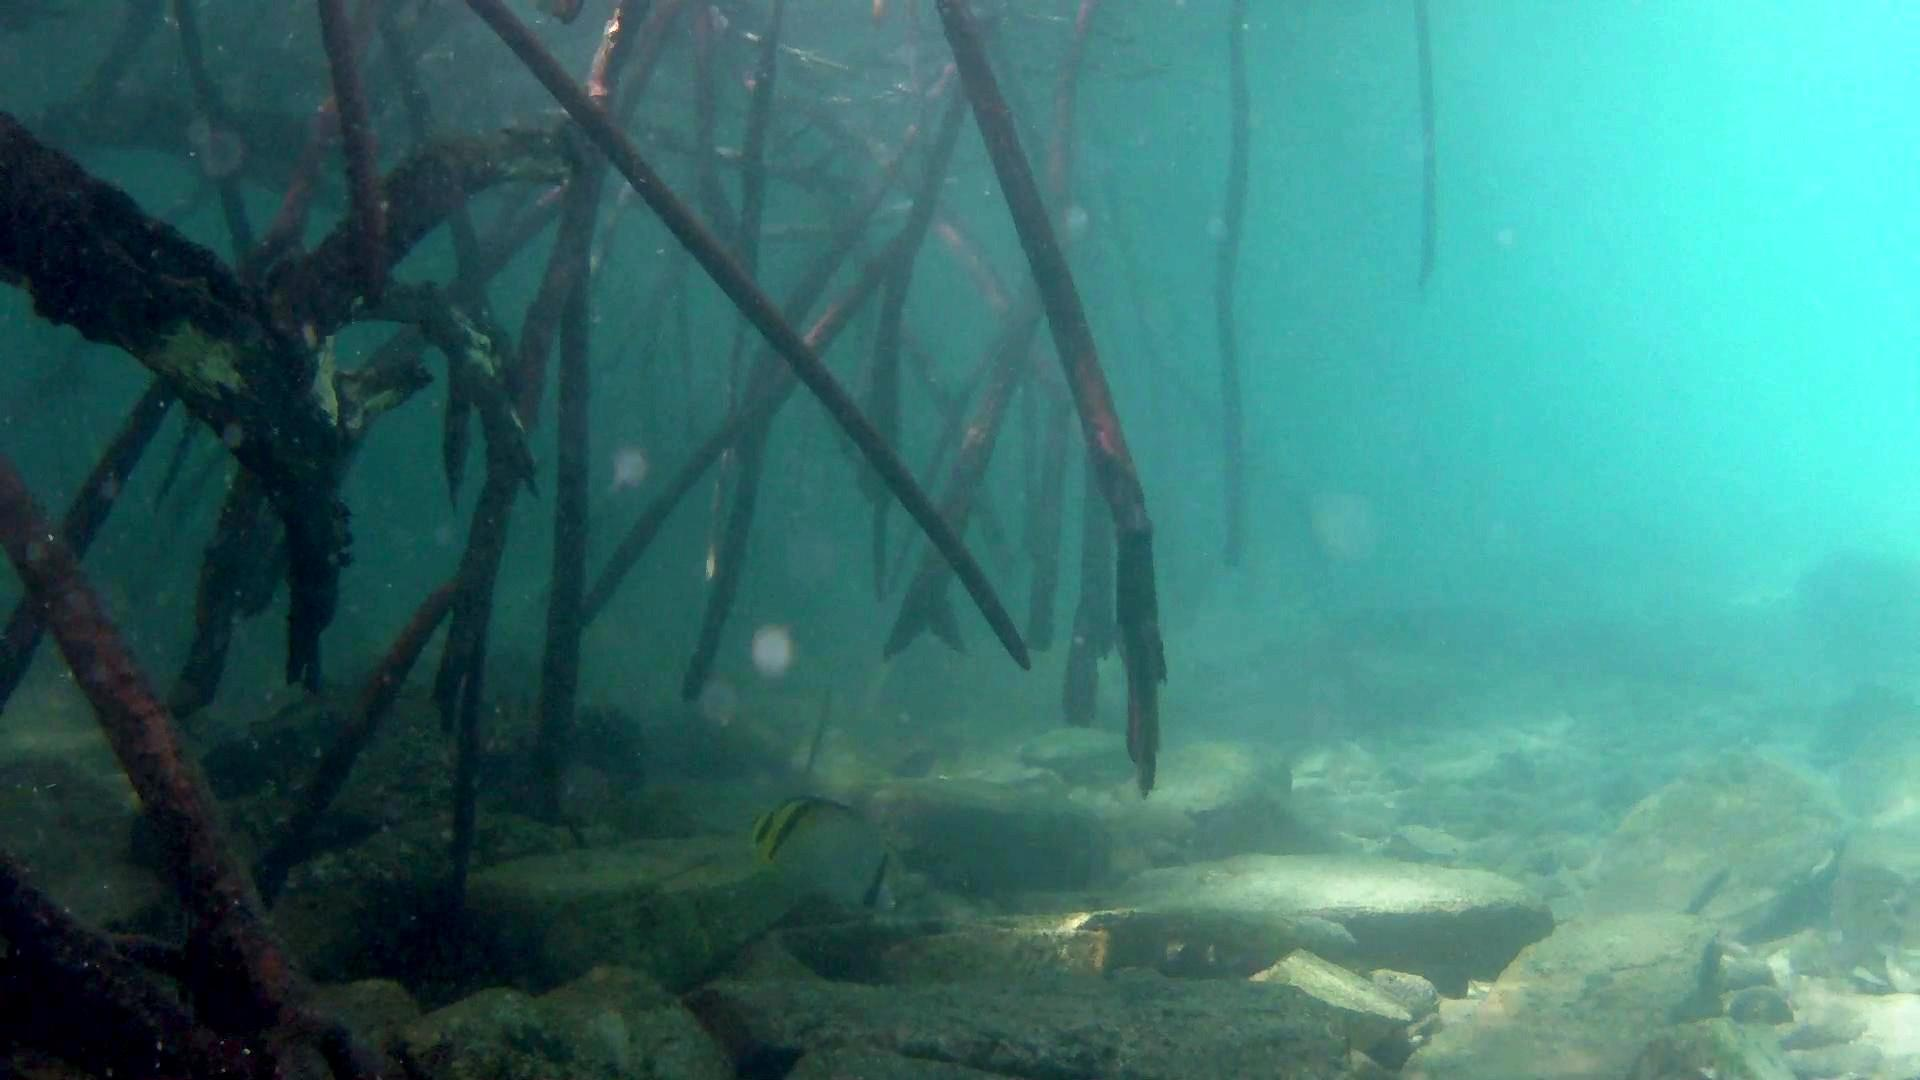chaetodon vagabundus: (747, 790, 904, 920)
